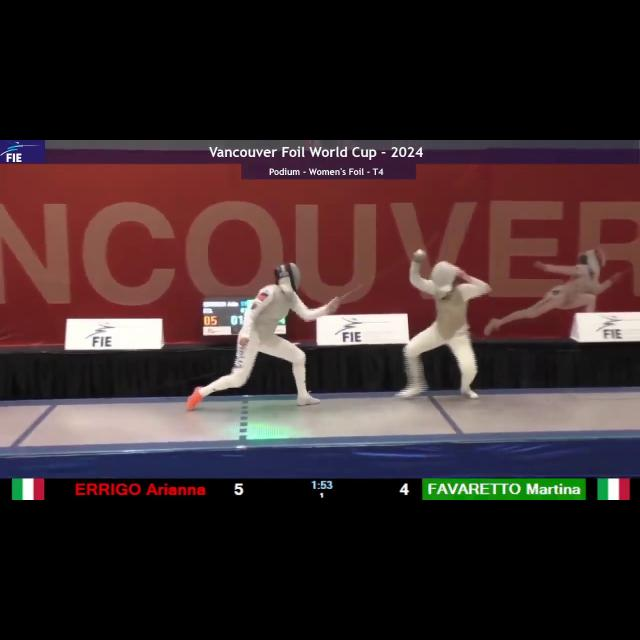blade: (334, 258, 406, 304), (418, 229, 442, 259)
